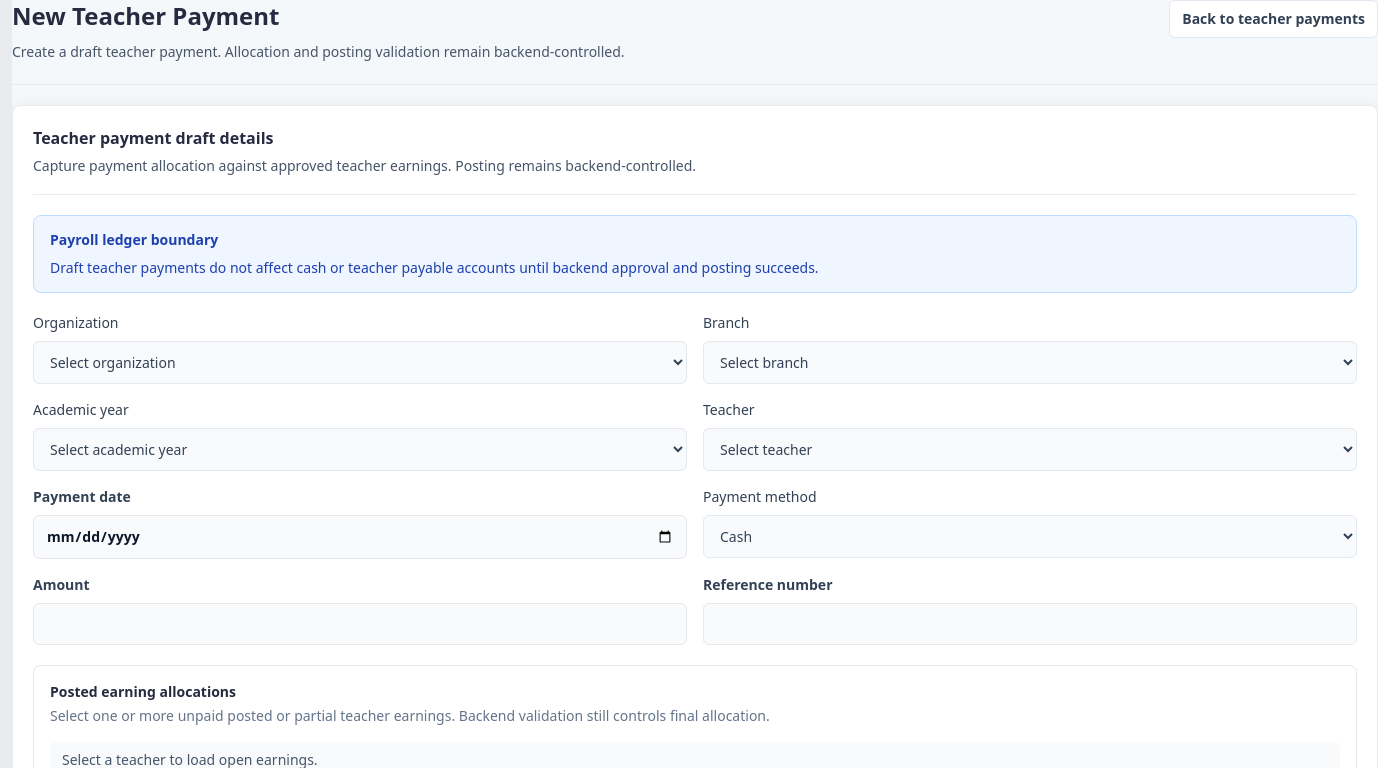
NewTeacherPaymentPage › loads open earnings after teacher selection
Select "TCMS" in the dropdown labelled "Organization" at (360, 362), box 33,341 -> 687,384
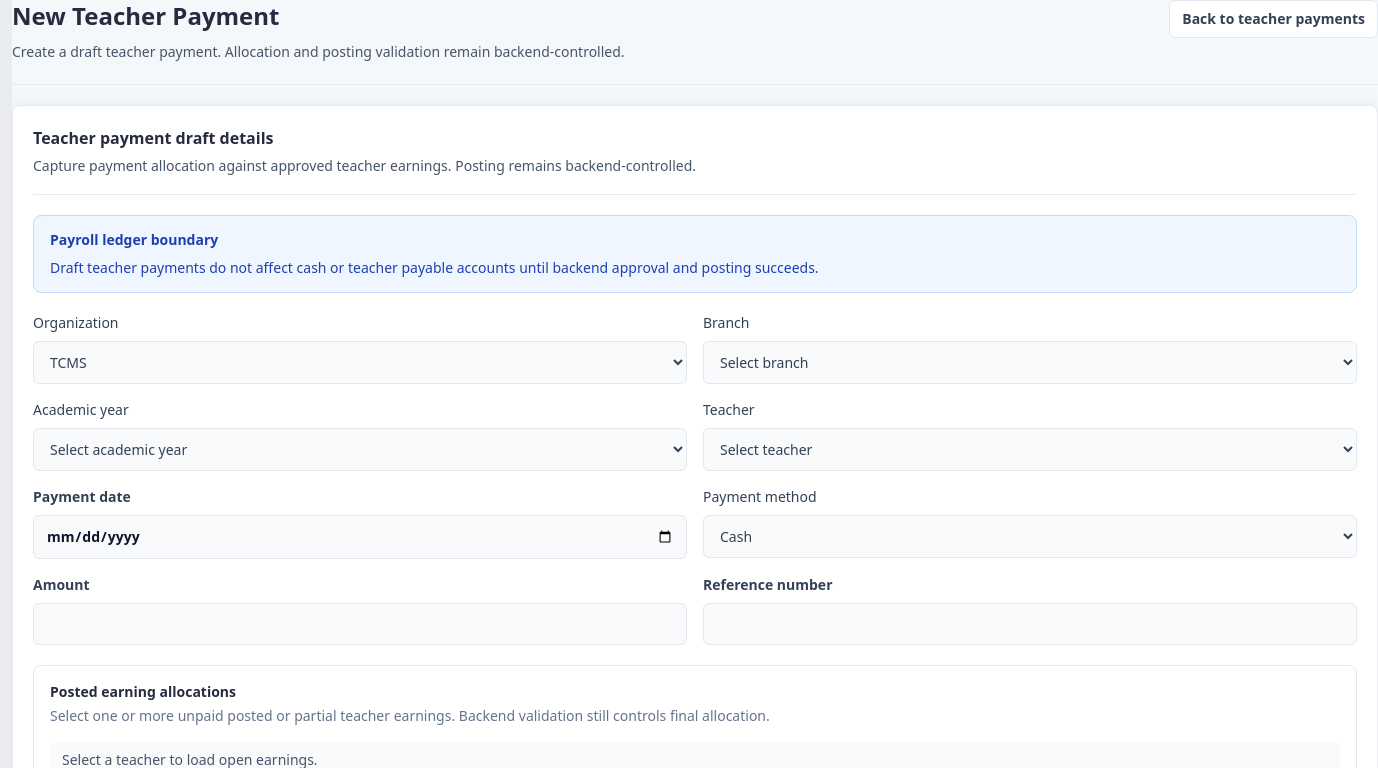
Select "Main Branch" in the dropdown labelled "Branch" at (1030, 362), box 703,341 -> 1357,384
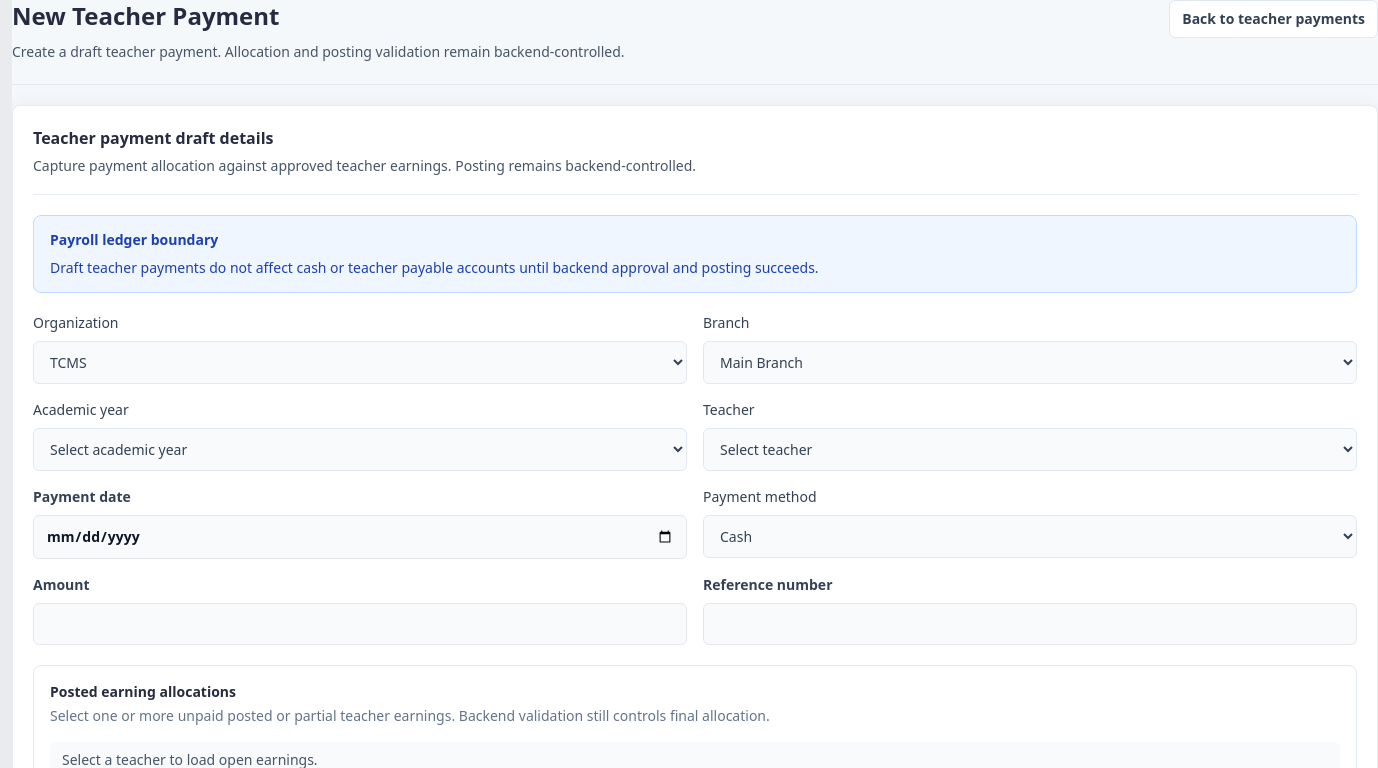
Select "2083" in the dropdown labelled "Academic year" at (360, 450), box 33,428 -> 687,471
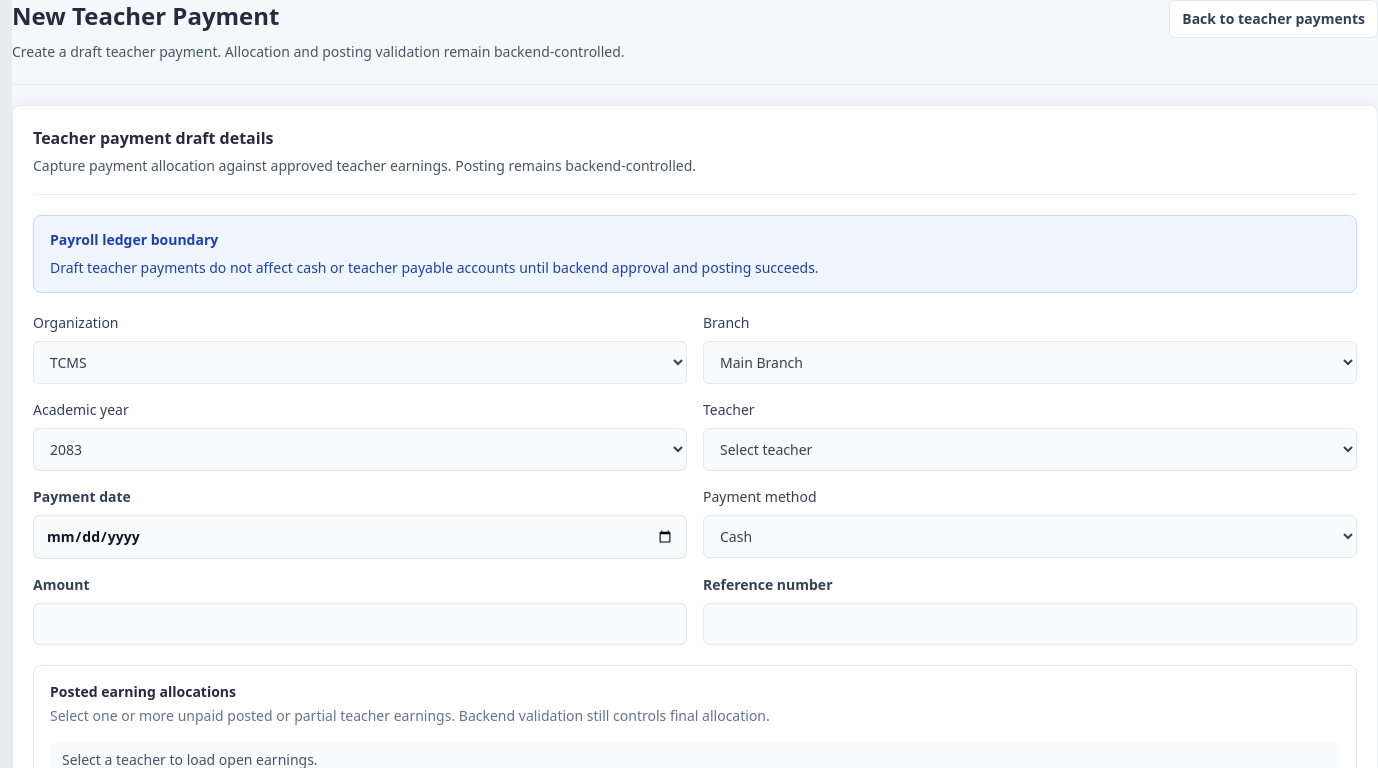
Select "Ram Sir" in the dropdown labelled "Teacher" at (1030, 450), box 703,428 -> 1357,471
(page scrolled)
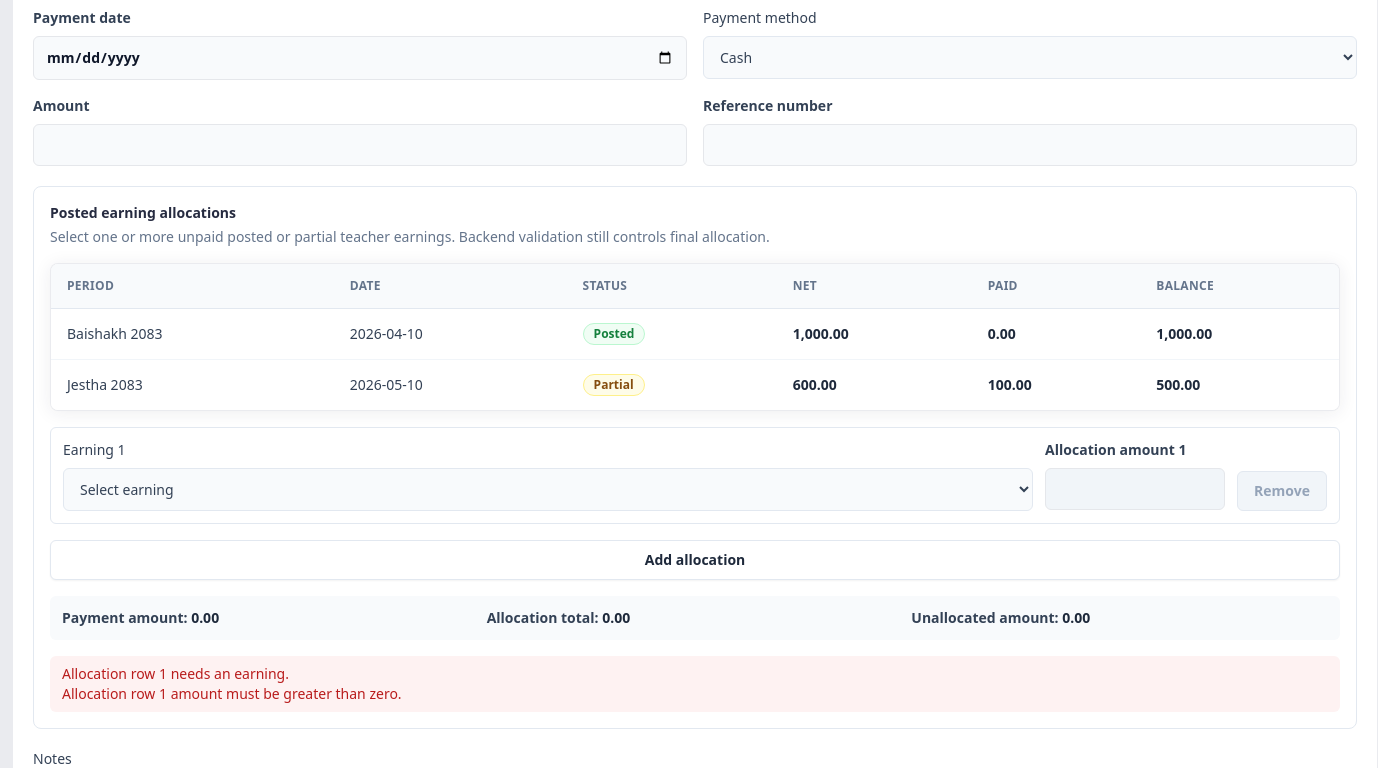
Now the text "Baishakh 2083" is shown, box 51,308 -> 334,360
Now the text "Jestha 2083" is shown, box 51,360 -> 334,410
